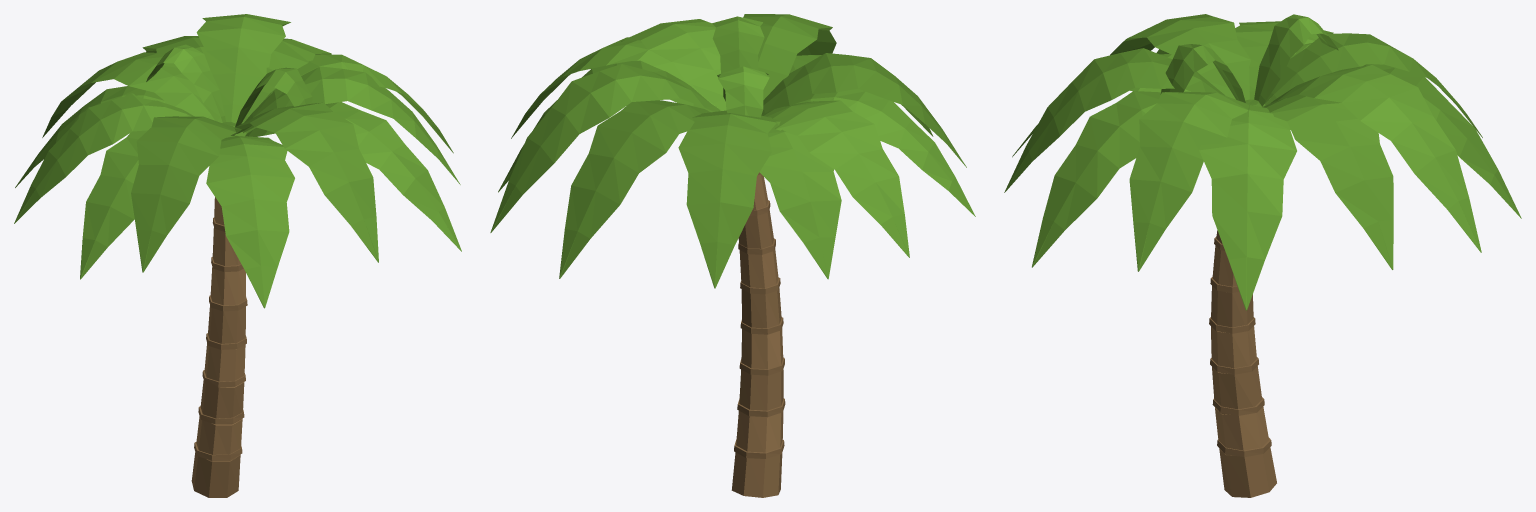
File: 05_dense_crown_palm.glb
The picture shows the model from 3 angles, left to right: view 1: azimuth 30°, elevation 25°; view 2: azimuth 150°, elevation 25°; view 3: azimuth 270°, elevation 25°; orthographic projection. The views are drawn at different scales.
Parts seen in each view (by area): view 1: 05_dense_crown_palm; view 2: 05_dense_crown_palm; view 3: 05_dense_crown_palm.
Part boxes in pixels (bbox=[...]): 05_dense_crown_palm: bbox=[14, 14, 461, 497]; 05_dense_crown_palm: bbox=[490, 14, 975, 497]; 05_dense_crown_palm: bbox=[1004, 14, 1521, 497].
Size of the model in its own units: 3.3 by 3.28 by 3.3.
